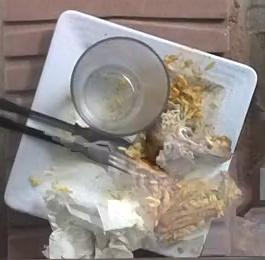rice: (164, 55, 204, 120)
